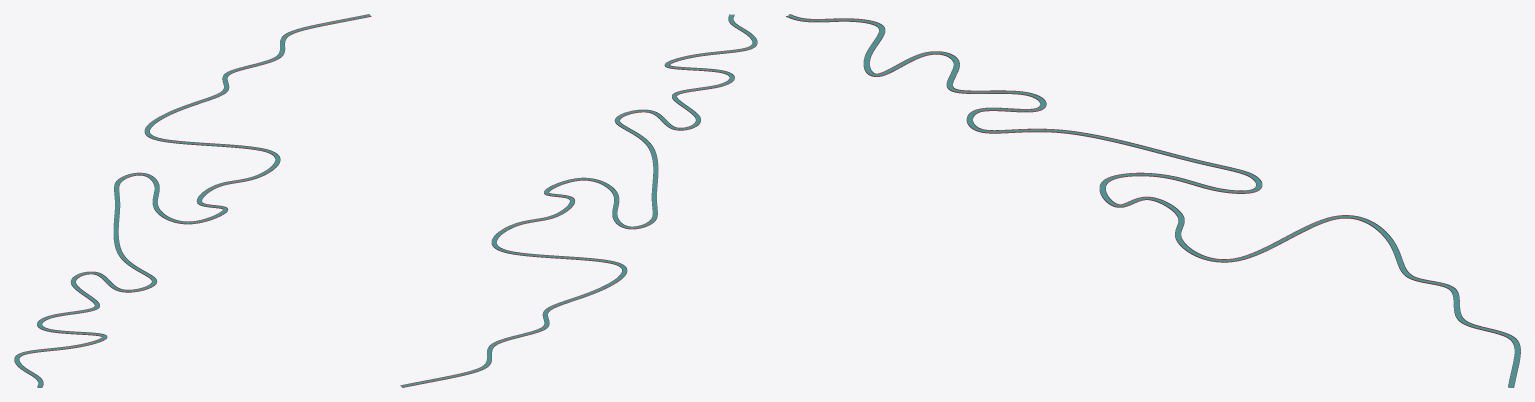
Rendered from speed_track.fbx.
The picture shows the model from 3 angles, left to right: view 1: azimuth 30°, elevation 25°; view 2: azimuth 210°, elevation 25°; view 3: azimuth 270°, elevation 25°; orthographic projection. The views are drawn at different scales.
Parts seen in each view (by area): view 1: polySurface1, polySurface2; view 2: polySurface1, polySurface2; view 3: polySurface1, polySurface2.
Part boxes in pixels (box(x1,y1,x2,y2)): polySurface1: box(14, 14, 370, 387); polySurface2: box(14, 14, 371, 387); polySurface1: box(401, 14, 757, 387); polySurface2: box(400, 14, 757, 387); polySurface1: box(787, 14, 1520, 387); polySurface2: box(786, 14, 1520, 387).
Size of the model in its own units: 73.5 by 0.0931 by 61.2.
